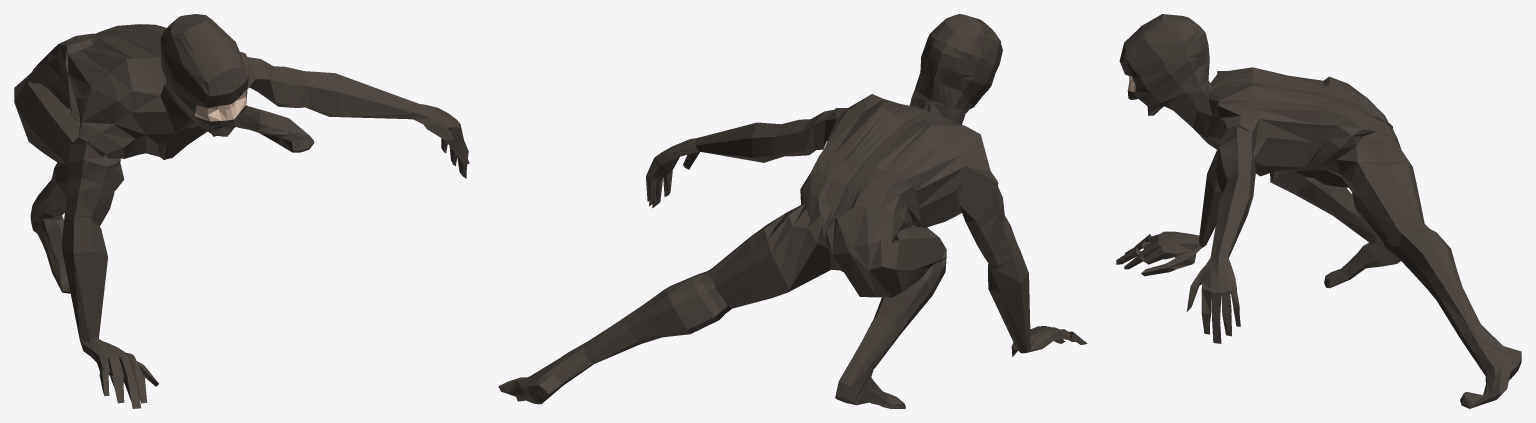
Rendered from Ninja.obj.
The picture shows the model from 3 angles, left to right: view 1: azimuth 30°, elevation 25°; view 2: azimuth 150°, elevation 25°; view 3: azimuth 270°, elevation 25°; orthographic projection. The views are drawn at different scales.
Parts seen in each view (by area): view 1: Cube_Cube_Material.001, Cube_Cube_Material; view 2: Cube_Cube_Material.001; view 3: Cube_Cube_Material.001.
Part boxes in pixels (<box>): Cube_Cube_Material.001: <box>14,14,469,408</box>; Cube_Cube_Material: <box>195,90,246,121</box>; Cube_Cube_Material.001: <box>498,14,1087,408</box>; Cube_Cube_Material.001: <box>1116,14,1521,408</box>.
Bounding box in the file's own units: 6.01 × 4.8 × 6.2.
